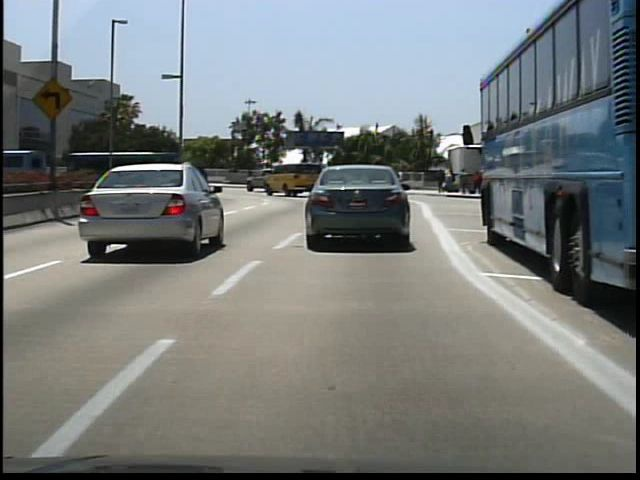person: (455, 165, 470, 197), (434, 167, 447, 194), (247, 164, 257, 178)
